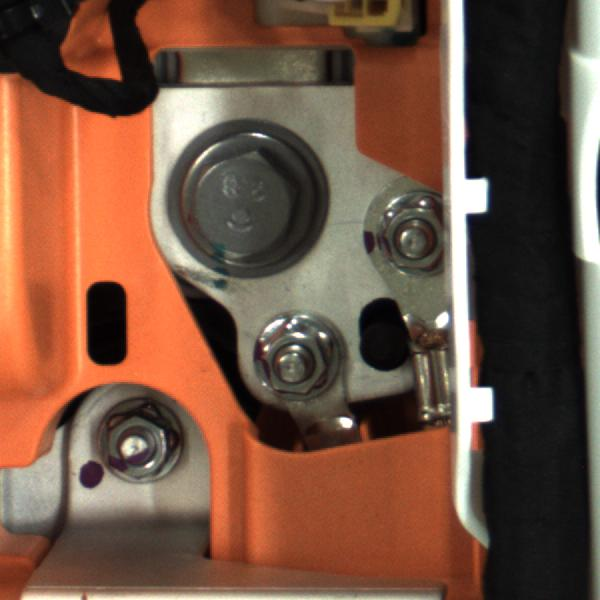nut_b: (180, 126, 314, 276)
screw_s: (86, 397, 206, 508), (242, 313, 343, 414), (371, 195, 463, 284)
